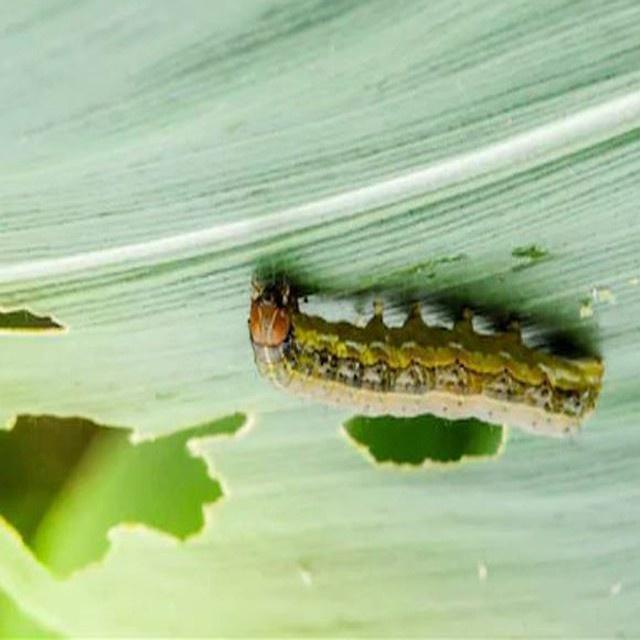gusano_cogollero: (254, 273, 602, 430)
